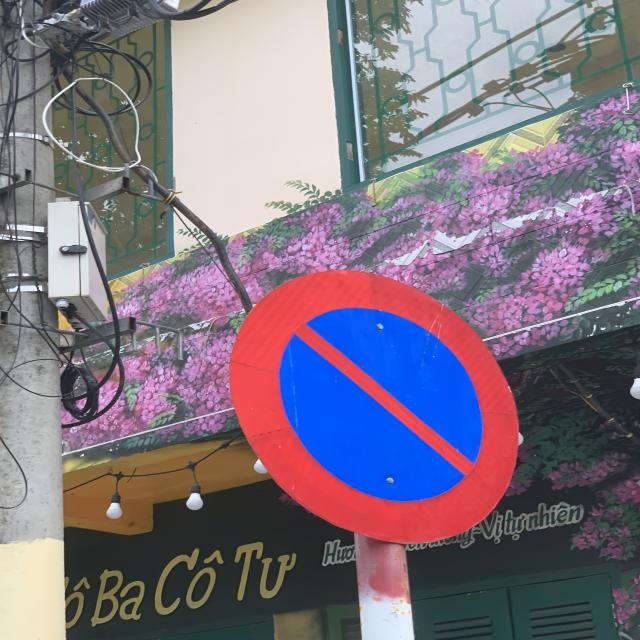Cam_Dau_Xe: (231, 267, 517, 544)
